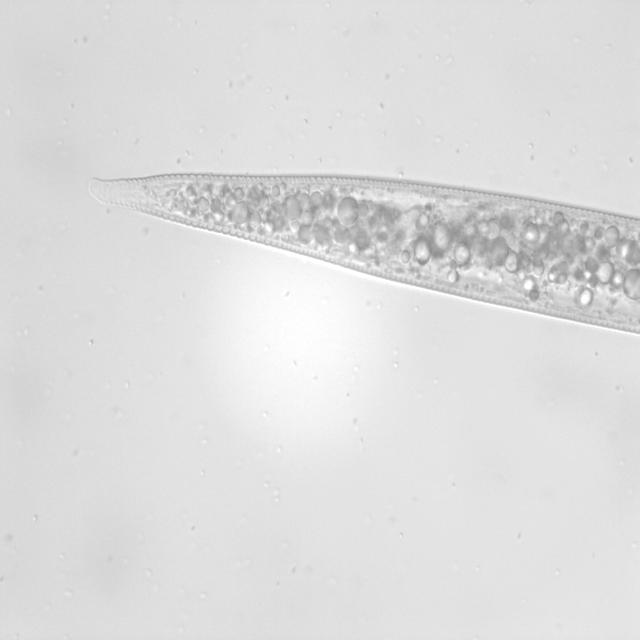Radopholus: (85, 160, 640, 336)
